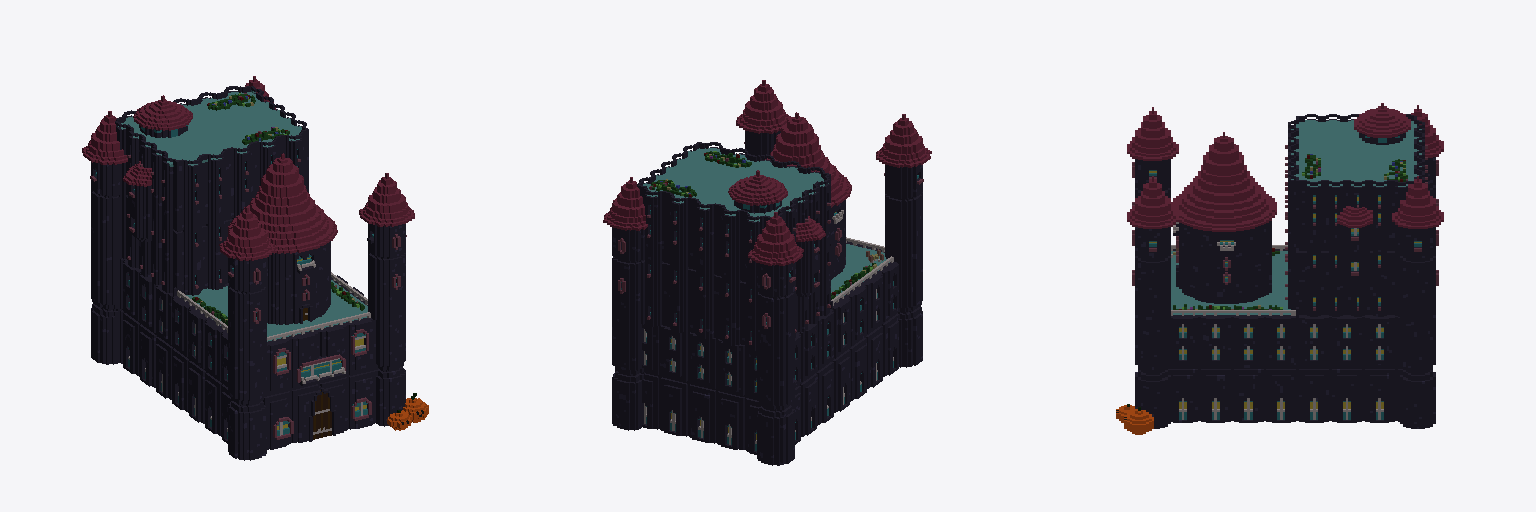
3 views of the same model, side by side, from view 1: azimuth 30°, elevation 25°; view 2: azimuth 150°, elevation 25°; view 3: azimuth 270°, elevation 25° (orthographic).
Visible parts, largest first — view 1: object 1; view 2: object 1; view 3: object 1.
Part boxes in pixels (bbox=[...]): object 1: bbox=[82, 76, 428, 460]; object 1: bbox=[603, 80, 931, 465]; object 1: bbox=[1116, 103, 1443, 434].
Bounding box in the file's own units: 8.4 × 10.7 × 12.
Materials: 1 (1 with a texture image).